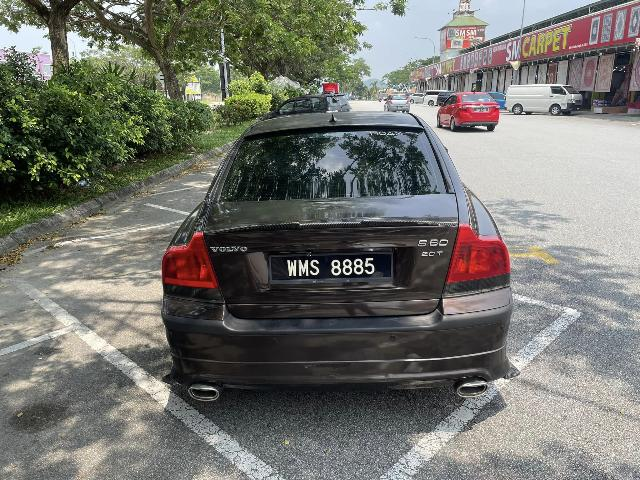License_Plate: (271, 256, 392, 284)
car: (157, 102, 524, 406)
